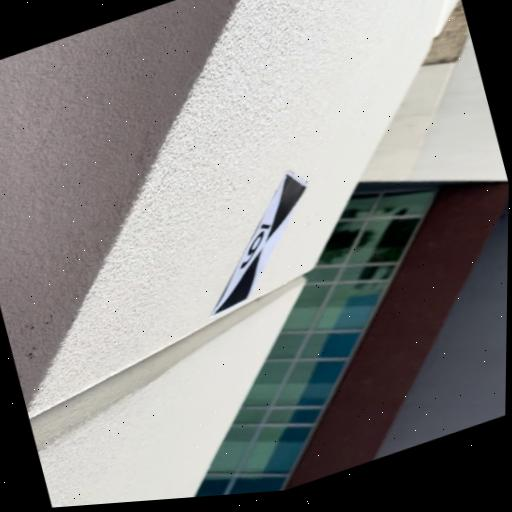target6: (217, 172, 311, 313)
